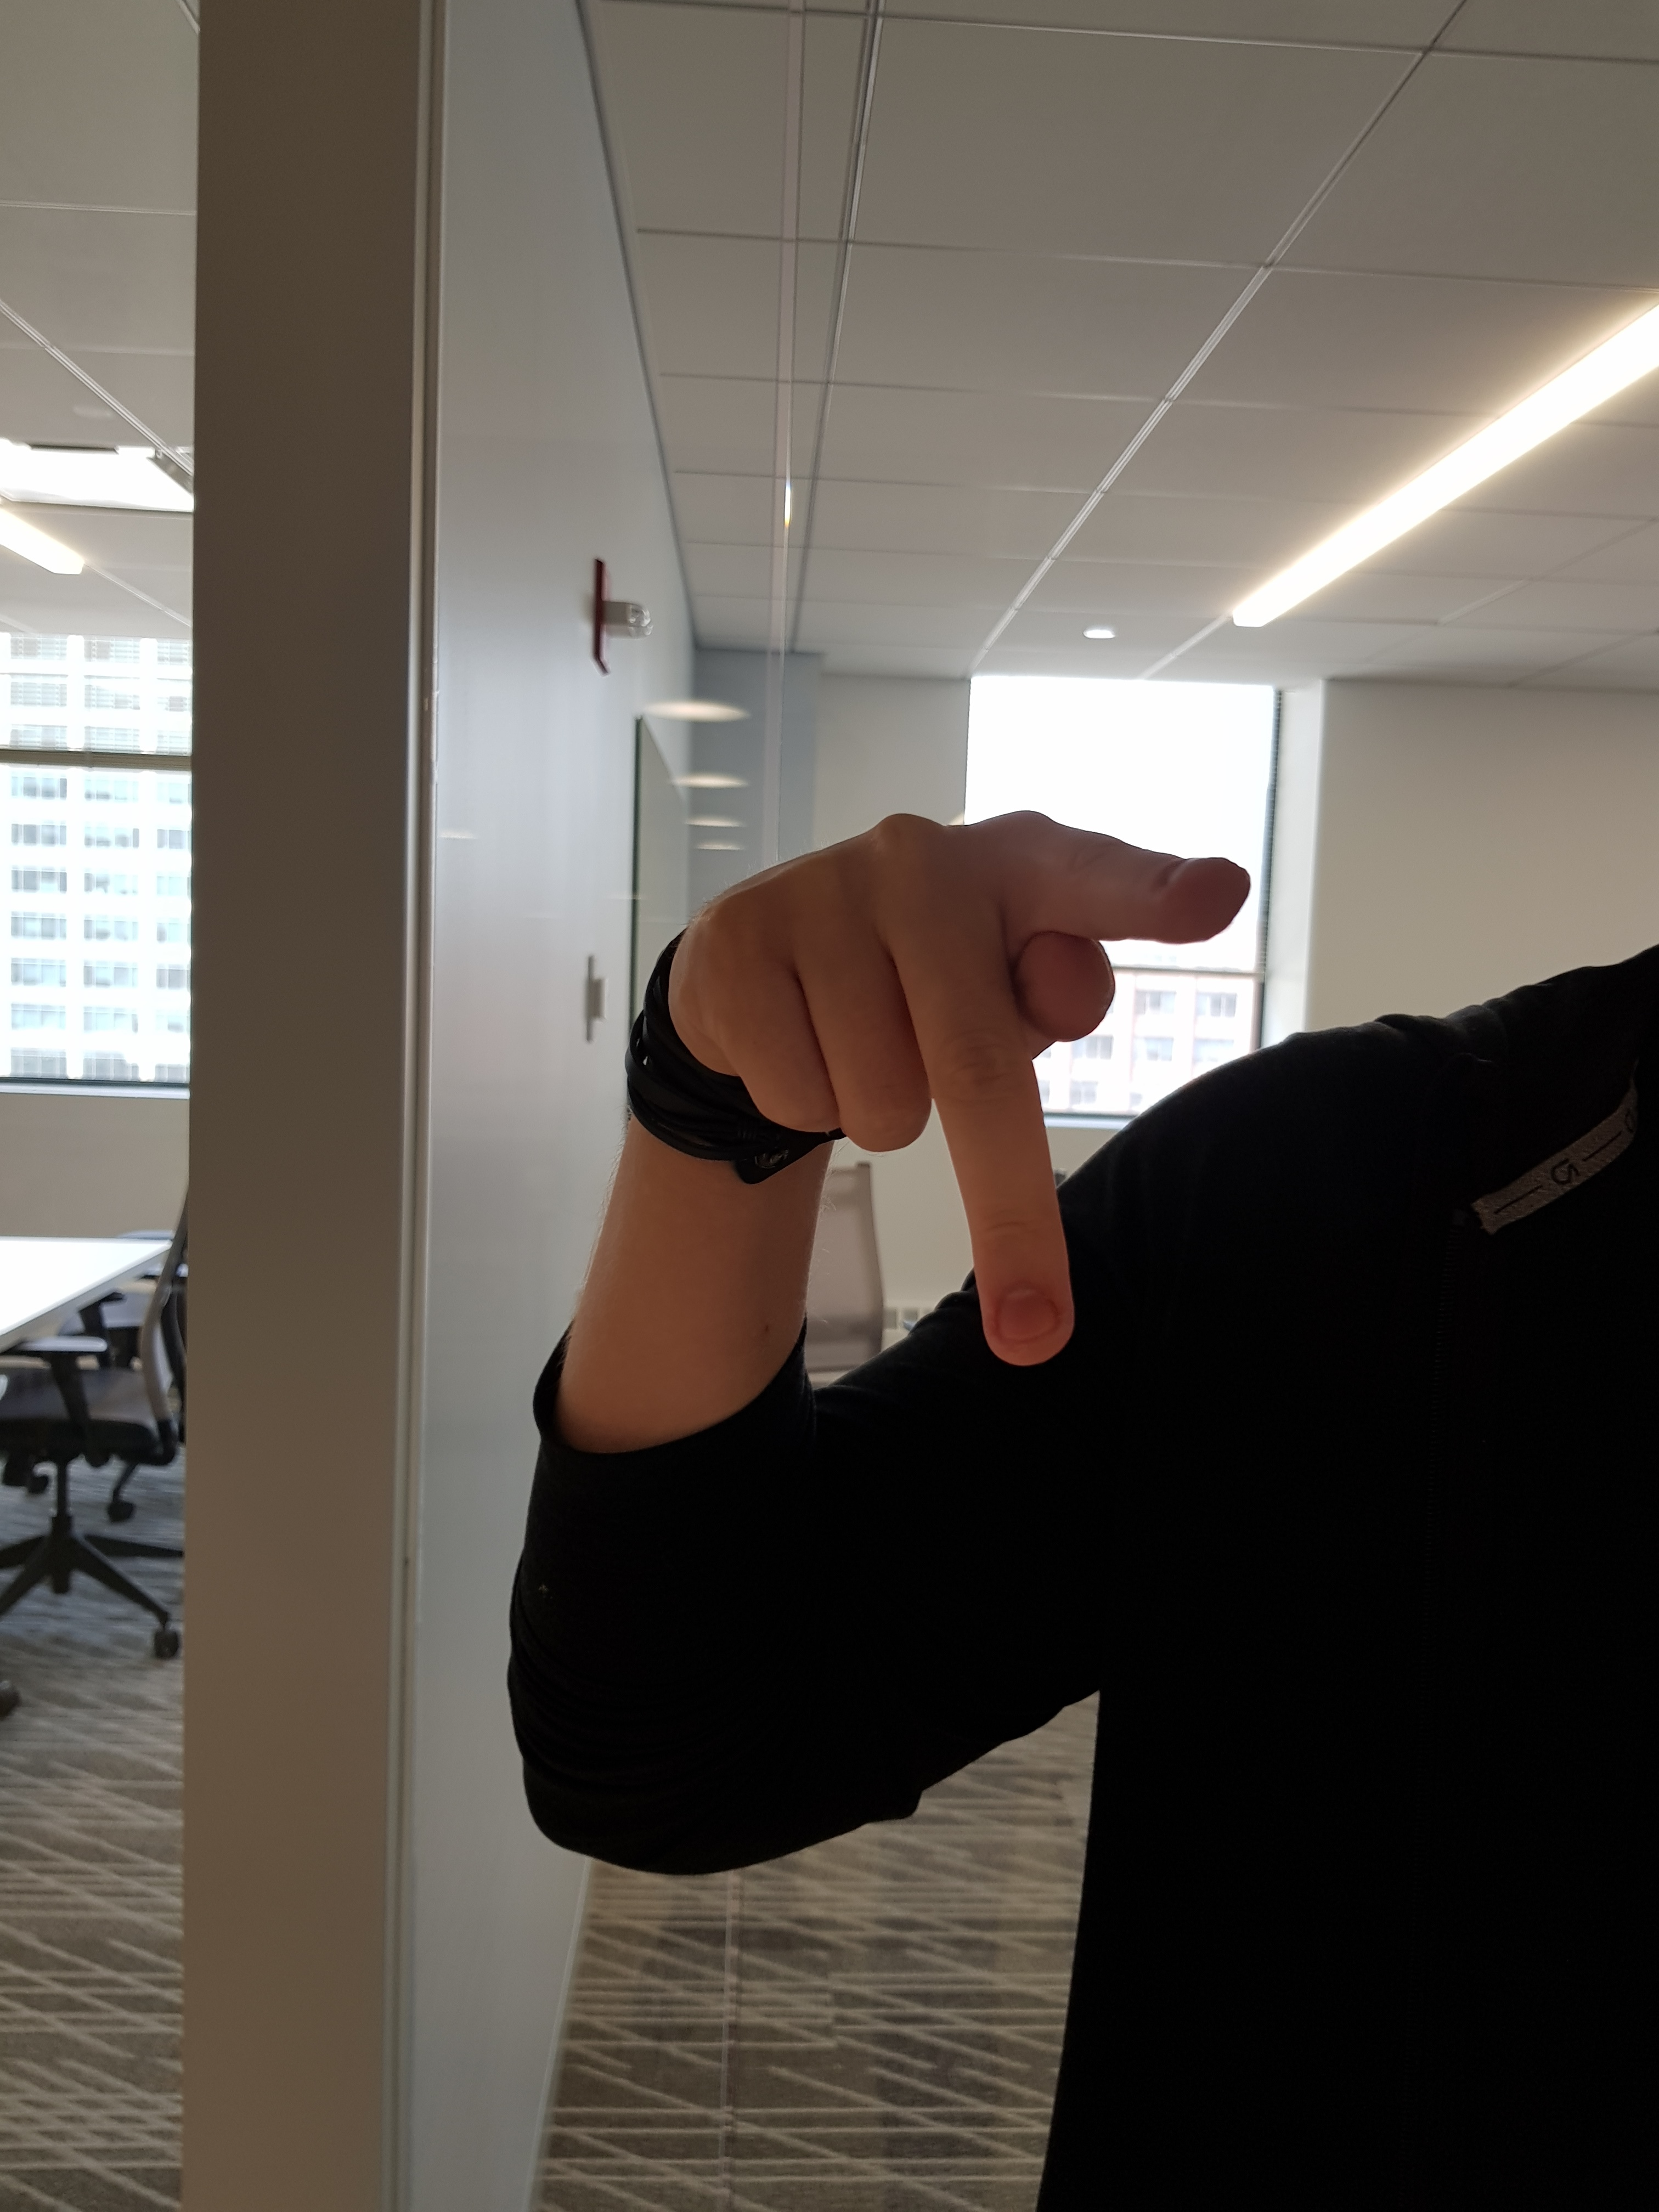p: (596, 770, 1291, 1409)
